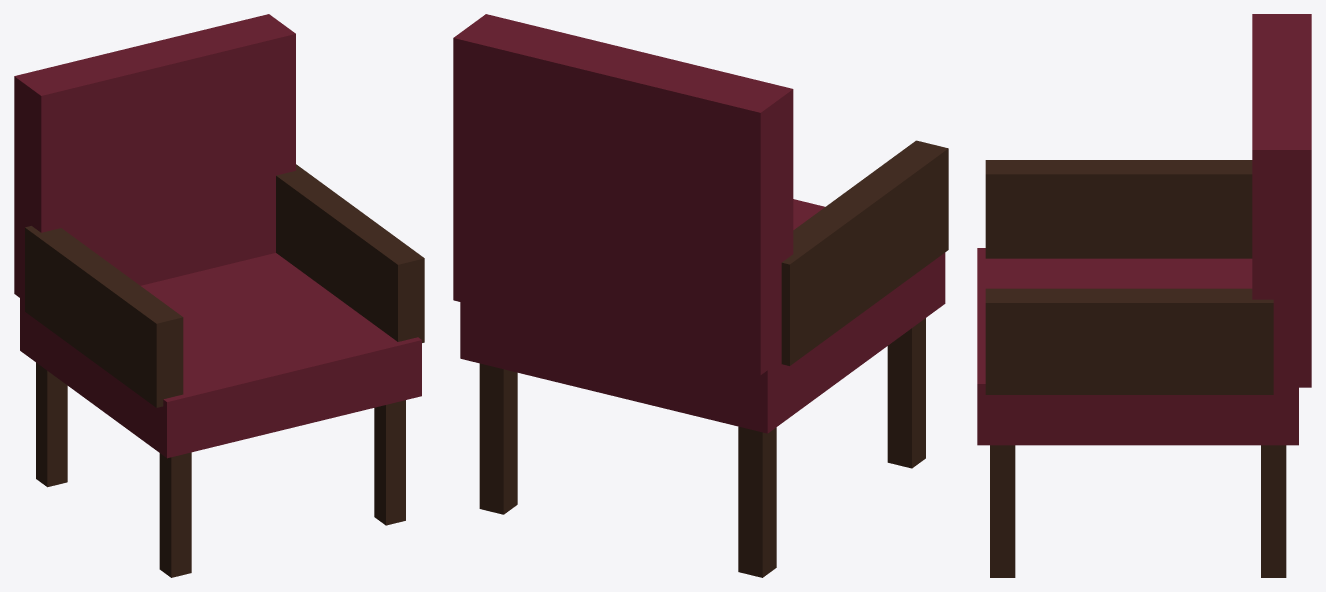
The model's file is HotelLobby_Armchair.obj.
3 views of the same model, side by side, from view 1: azimuth 30°, elevation 25°; view 2: azimuth 150°, elevation 25°; view 3: azimuth 270°, elevation 25° (orthographic). The views are drawn at different scales.
Bounding box in the file's own units: 0.8 × 1.13 × 0.79.
